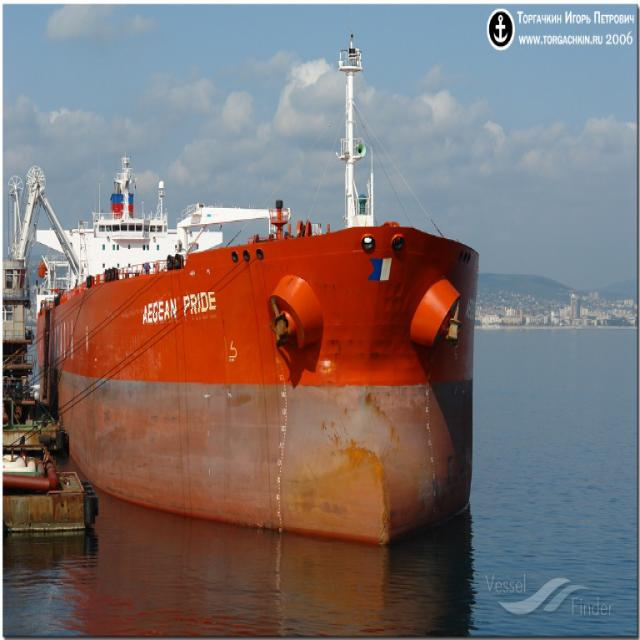OCR: (130, 292, 224, 328)
